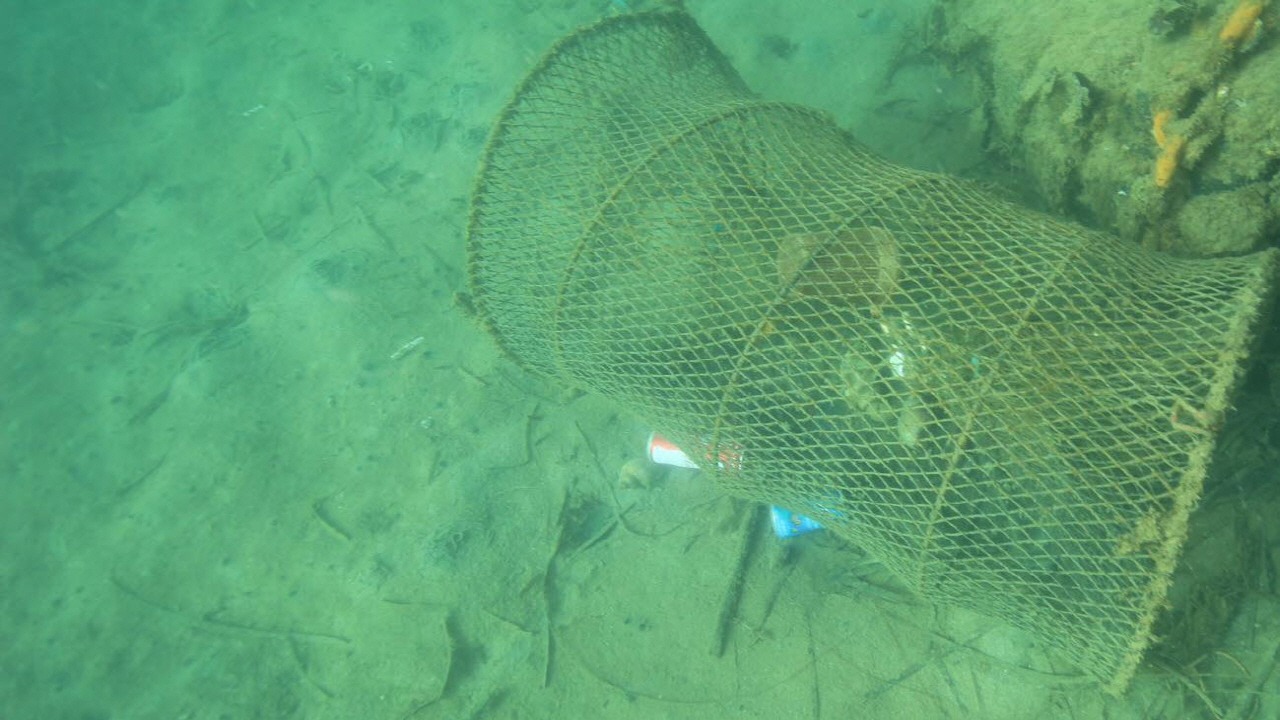spring fish trap: (462, 6, 1280, 702)
